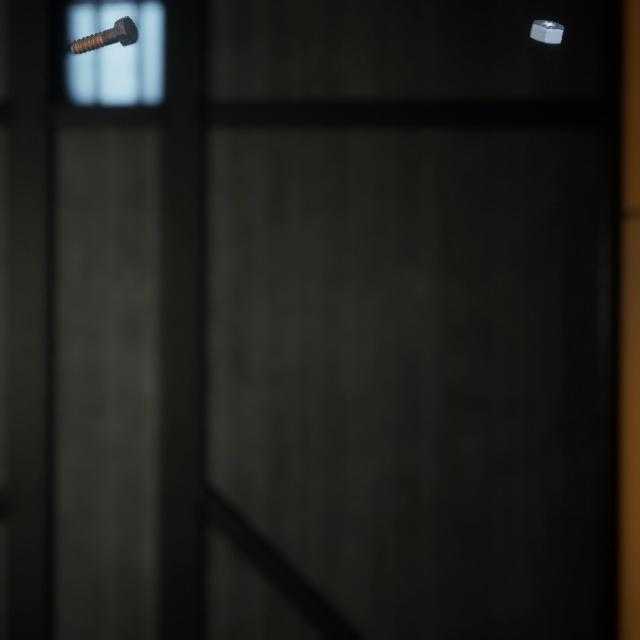bolt: (65, 3, 142, 49)
nut: (525, 6, 569, 39)
